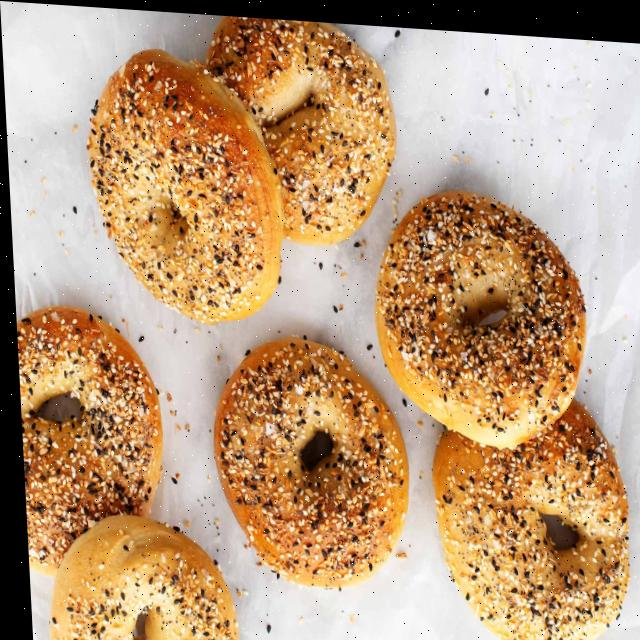Bagel: (372, 184, 583, 440), (87, 46, 280, 320), (428, 392, 623, 640), (209, 333, 403, 581), (204, 13, 395, 241), (14, 304, 158, 574), (43, 513, 232, 640)
